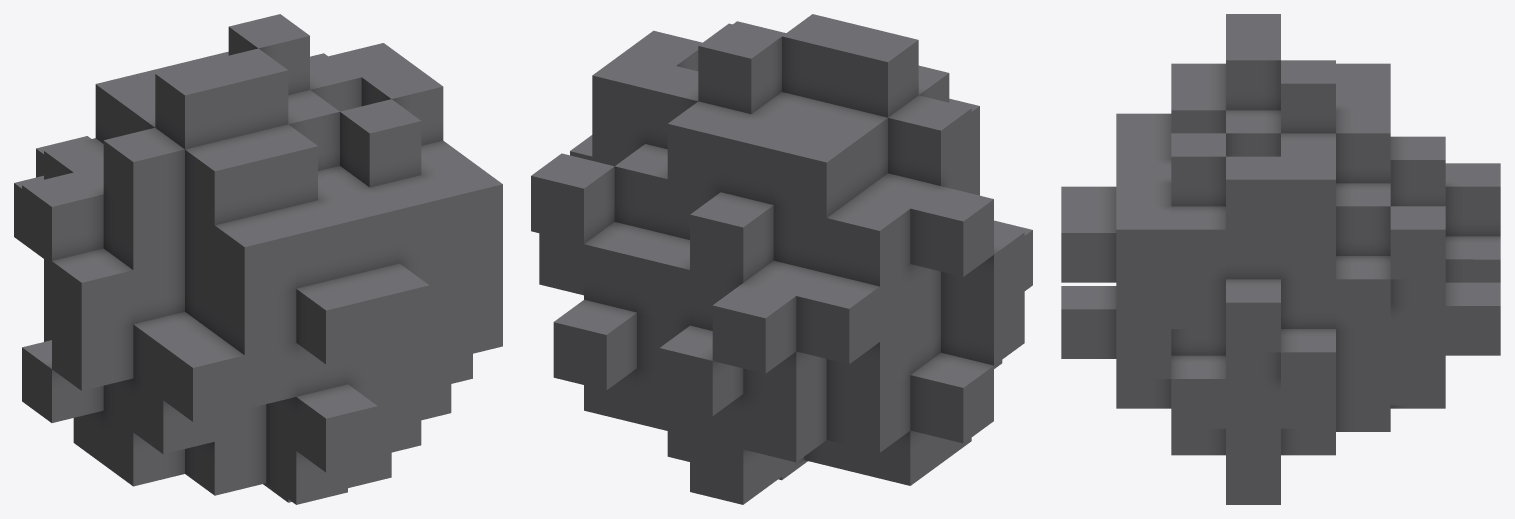
File: cm_puff_m.glb
The picture shows the model from 3 angles, left to right: view 1: azimuth 30°, elevation 25°; view 2: azimuth 150°, elevation 25°; view 3: azimuth 270°, elevation 25°; orthographic projection. The views are drawn at different scales.
Visible parts, largest first — view 1: cm_puff_m_body; view 2: cm_puff_m_body; view 3: cm_puff_m_body.
Part boxes in pixels (x1,y1,x2,y2): cm_puff_m_body: [14, 14, 502, 504]; cm_puff_m_body: [531, 14, 1032, 504]; cm_puff_m_body: [1061, 14, 1500, 504].
Bounding box in the file's own units: 1 × 1 × 1.
Materials: 1 (1 with a texture image).
